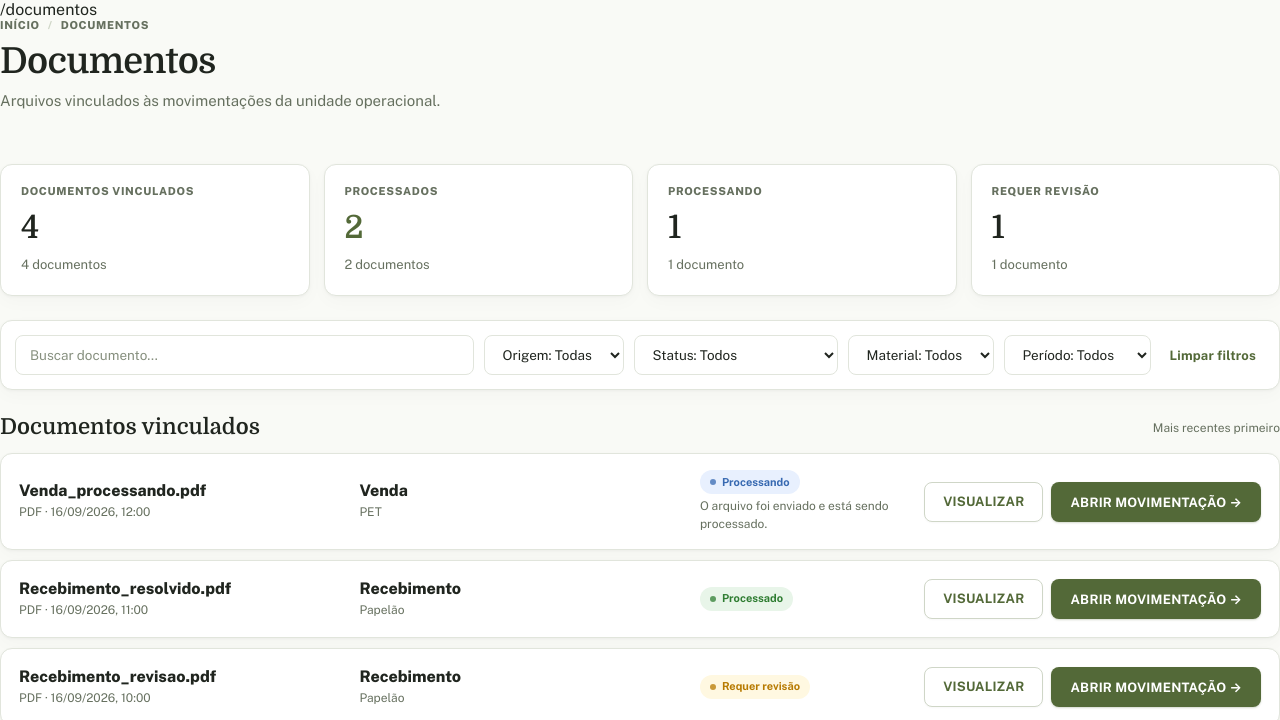
it: DocumentsPage › filters the durable list and clears filters
Check: the text "Venda_processando.pdf" is shown, box x1=19 y1=481 x2=206 y2=500
Type "revisao" into the field labelled "Buscar documento".
click(244, 355); type("revisao")  # box x1=15 y1=335 x2=474 y2=375
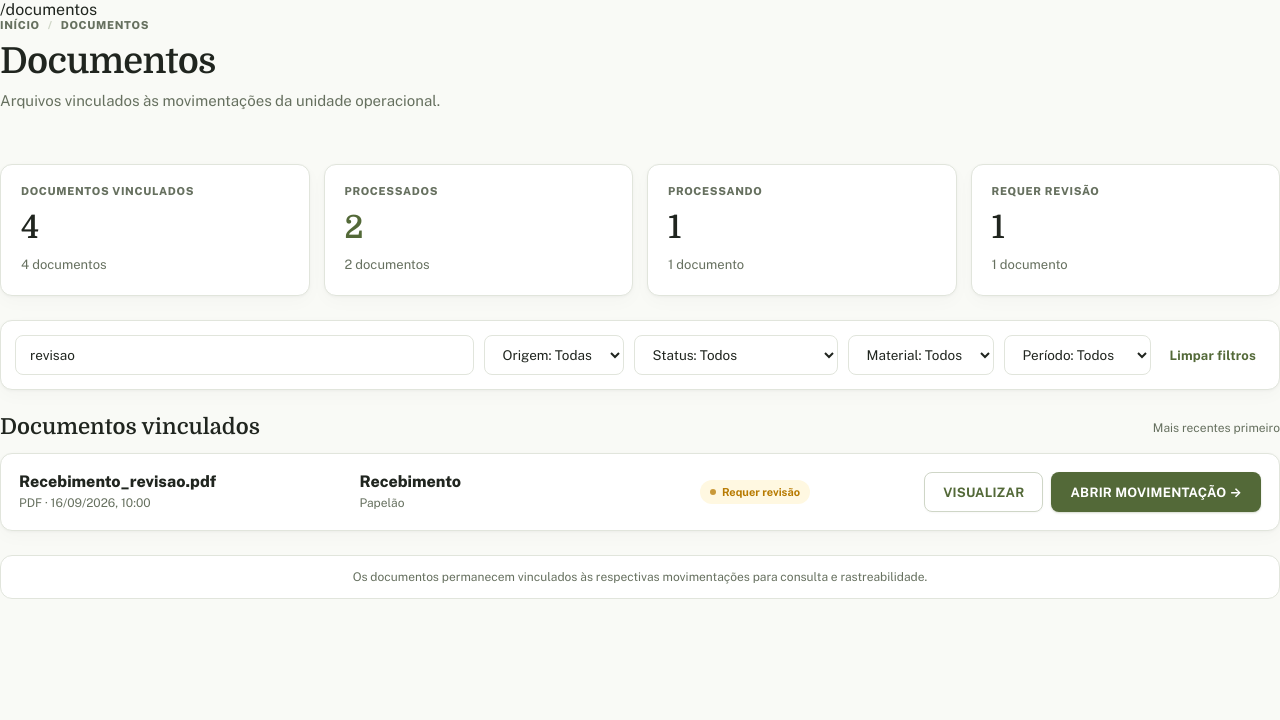
Check: the text "Recebimento_revisao.pdf" is shown, box x1=19 y1=472 x2=216 y2=491
Check: the text "Venda_processando.pdf" is gone
Click the button "Limpar filtros".
click(1213, 355)  # box x1=1161 y1=335 x2=1265 y2=375
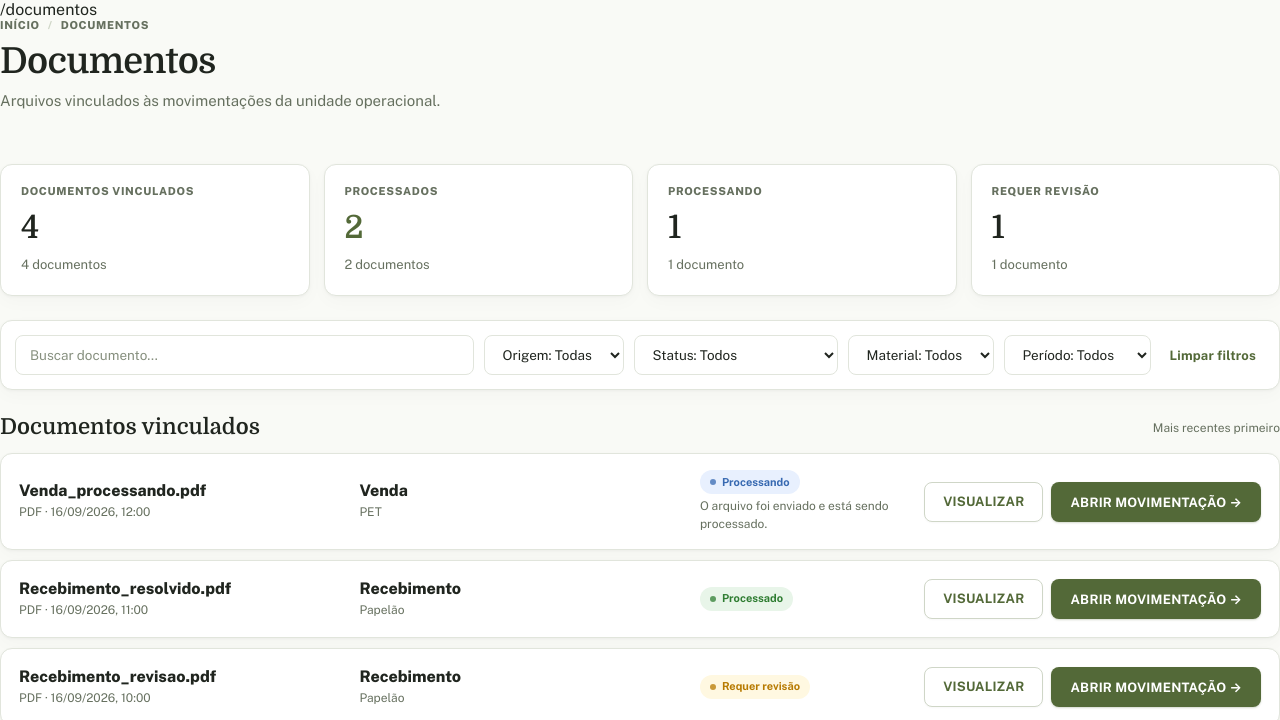
Check: the text "Venda_processando.pdf" is shown, box x1=19 y1=481 x2=206 y2=500
